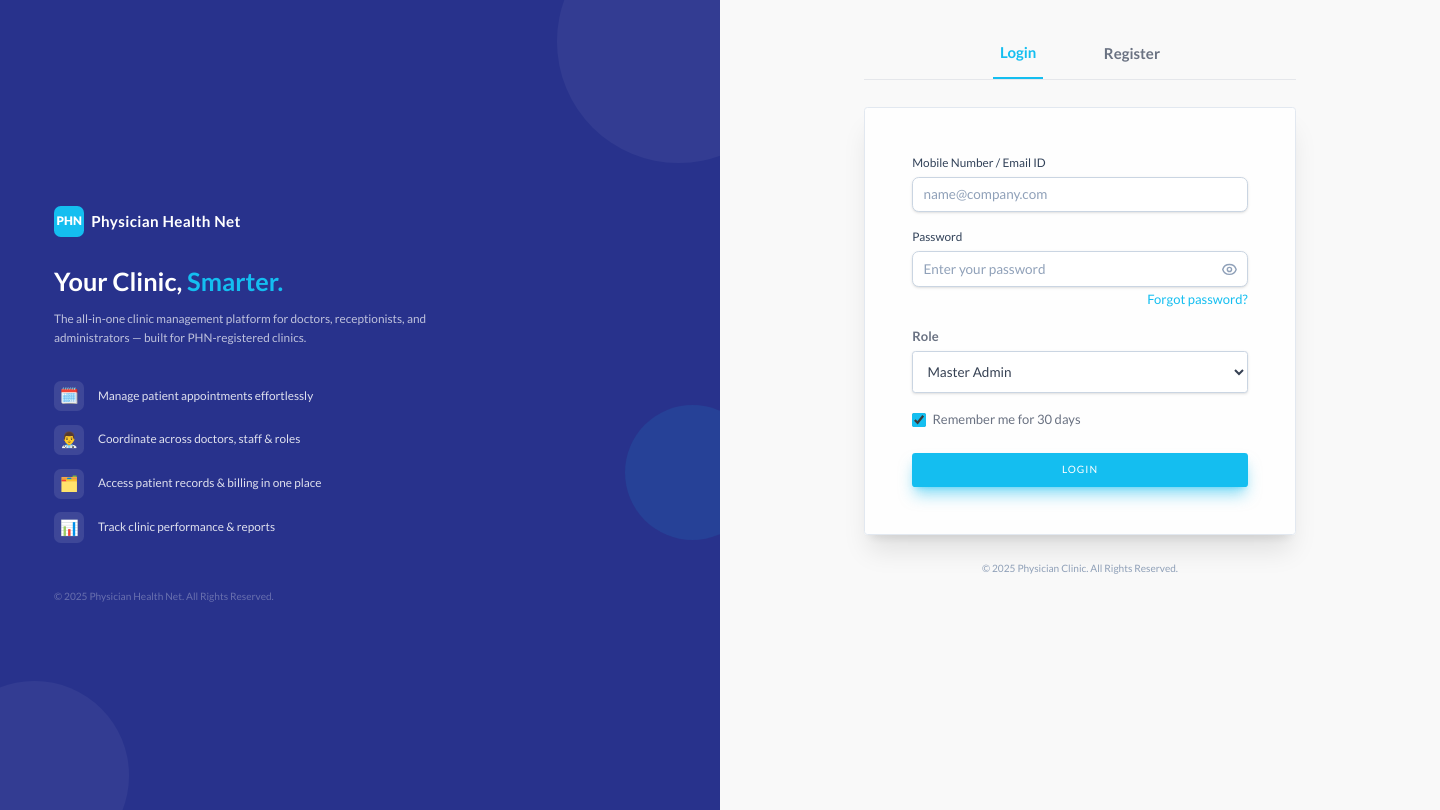
Scenario: Login Component › switches to register tab
The width and height of the screenshot is (1440, 810).
Click the button "Register".
click(1132, 60)  # box [1097, 40, 1167, 78]
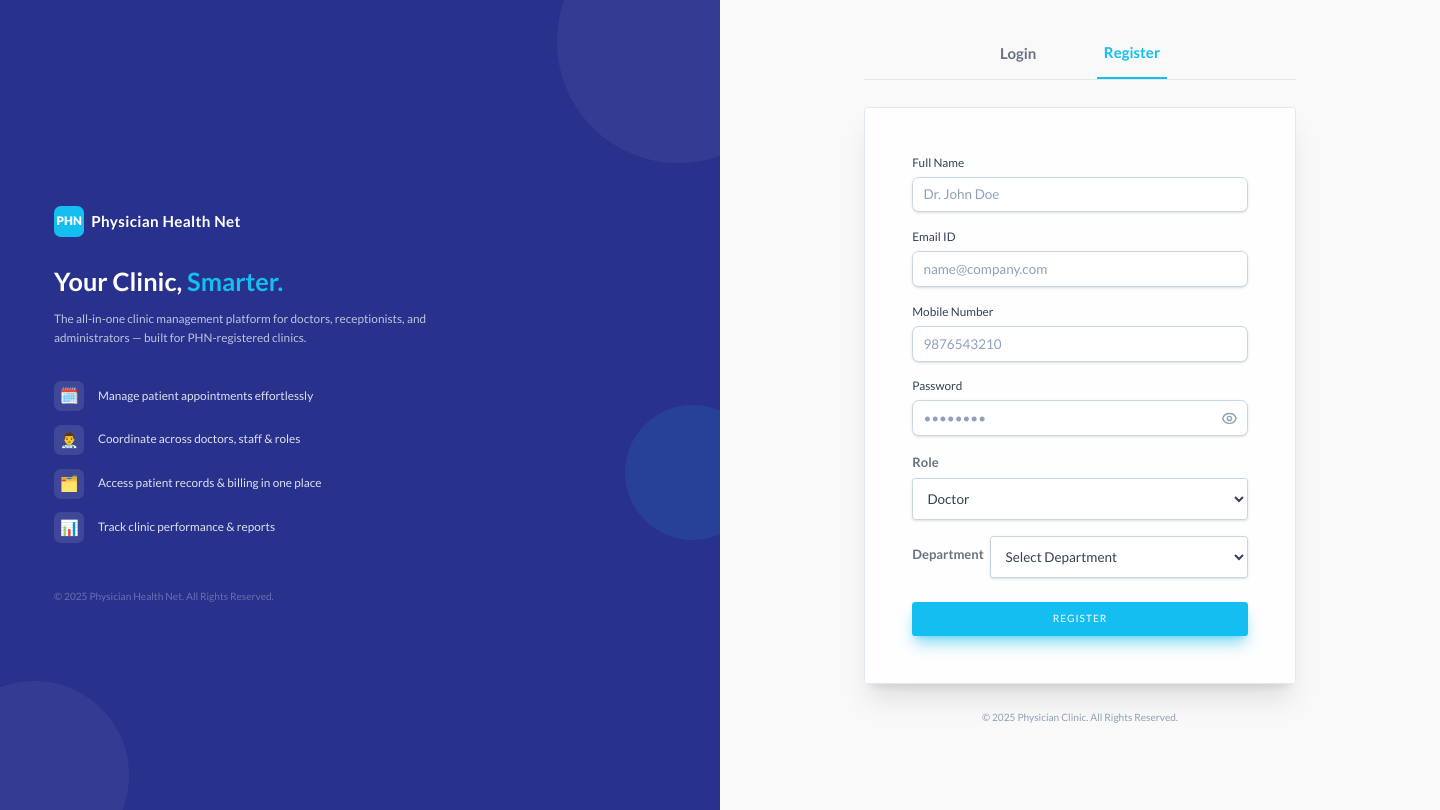
Check: the field with placeholder "Dr. John Doe" is shown, box [912, 177, 1248, 212]
Check: the field with placeholder "9876543210" is shown, box [912, 326, 1248, 362]
